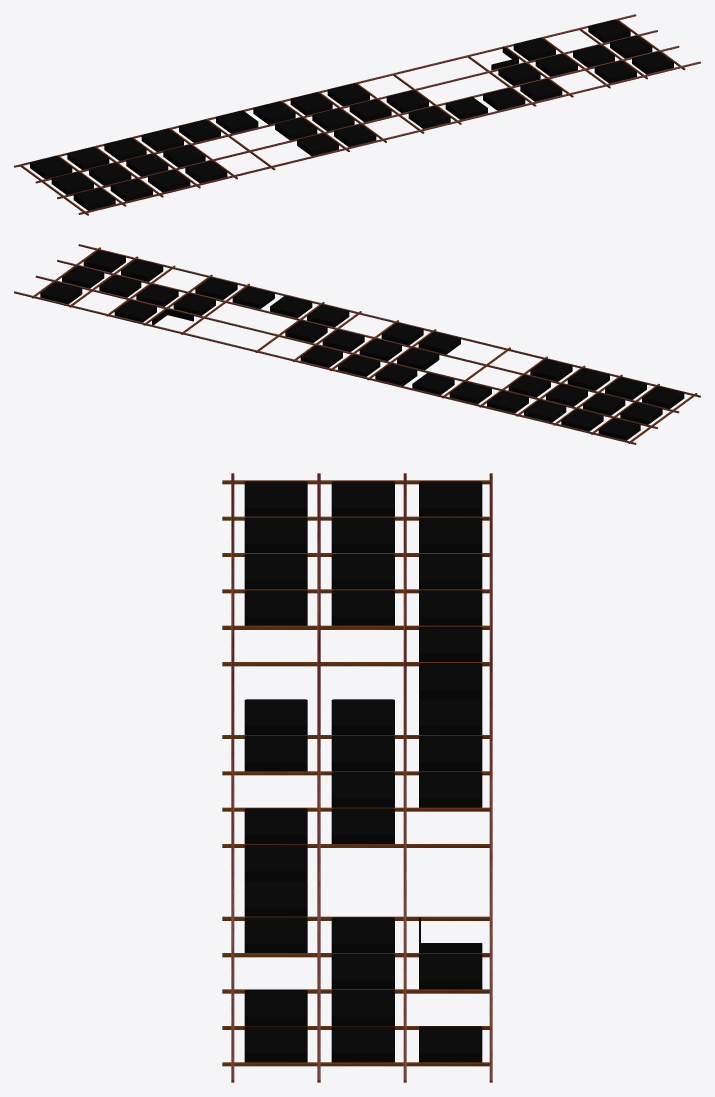
The picture shows the model from 3 angles, top to bottom: view 1: azimuth 30°, elevation 25°; view 2: azimuth 150°, elevation 25°; view 3: azimuth 270°, elevation 25°; orthographic projection. The views are drawn at different scales.
Visible parts, largest first — view 1: Cube.085, Cube.083, Cube.084; view 2: Cube.085, Cube.083, Cube.084; view 3: Cube.085, Cube.084, Cube.083.
Part boxes in pixels (left/top/right/bottom): Cube.085: left=30, top=19, right=673, bottom=210; Cube.083: left=14, top=14, right=700, bottom=214; Cube.084: left=20, top=19, right=685, bottom=215; Cube.085: left=40, top=250, right=684, bottom=440; Cube.083: left=14, top=244, right=700, bottom=444; Cube.084: left=32, top=247, right=697, bottom=443; Cube.085: left=244, top=481, right=482, bottom=1062; Cube.084: left=222, top=480, right=489, bottom=1066; Cube.083: left=231, top=473, right=492, bottom=1082.
Bounding box in the file's own units: 1701 × 79.87 × 9027.
Materials: 3 (2 with a texture image).
